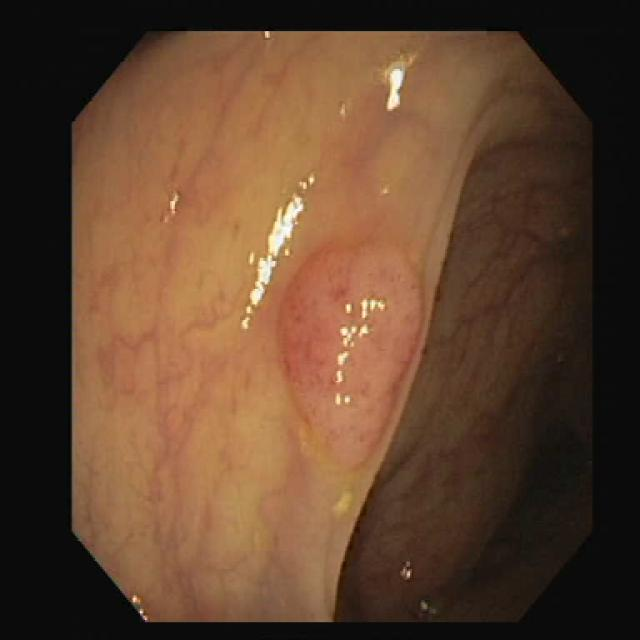tumor: (278, 238, 416, 472)
